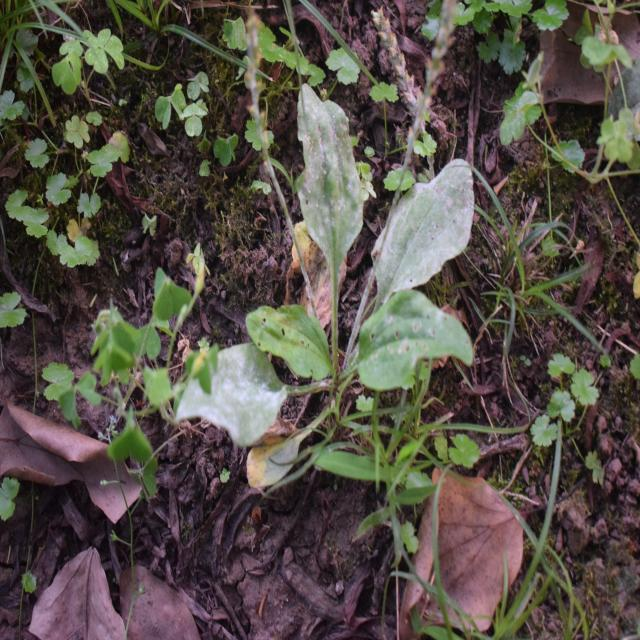plantain: (206, 86, 467, 452)
